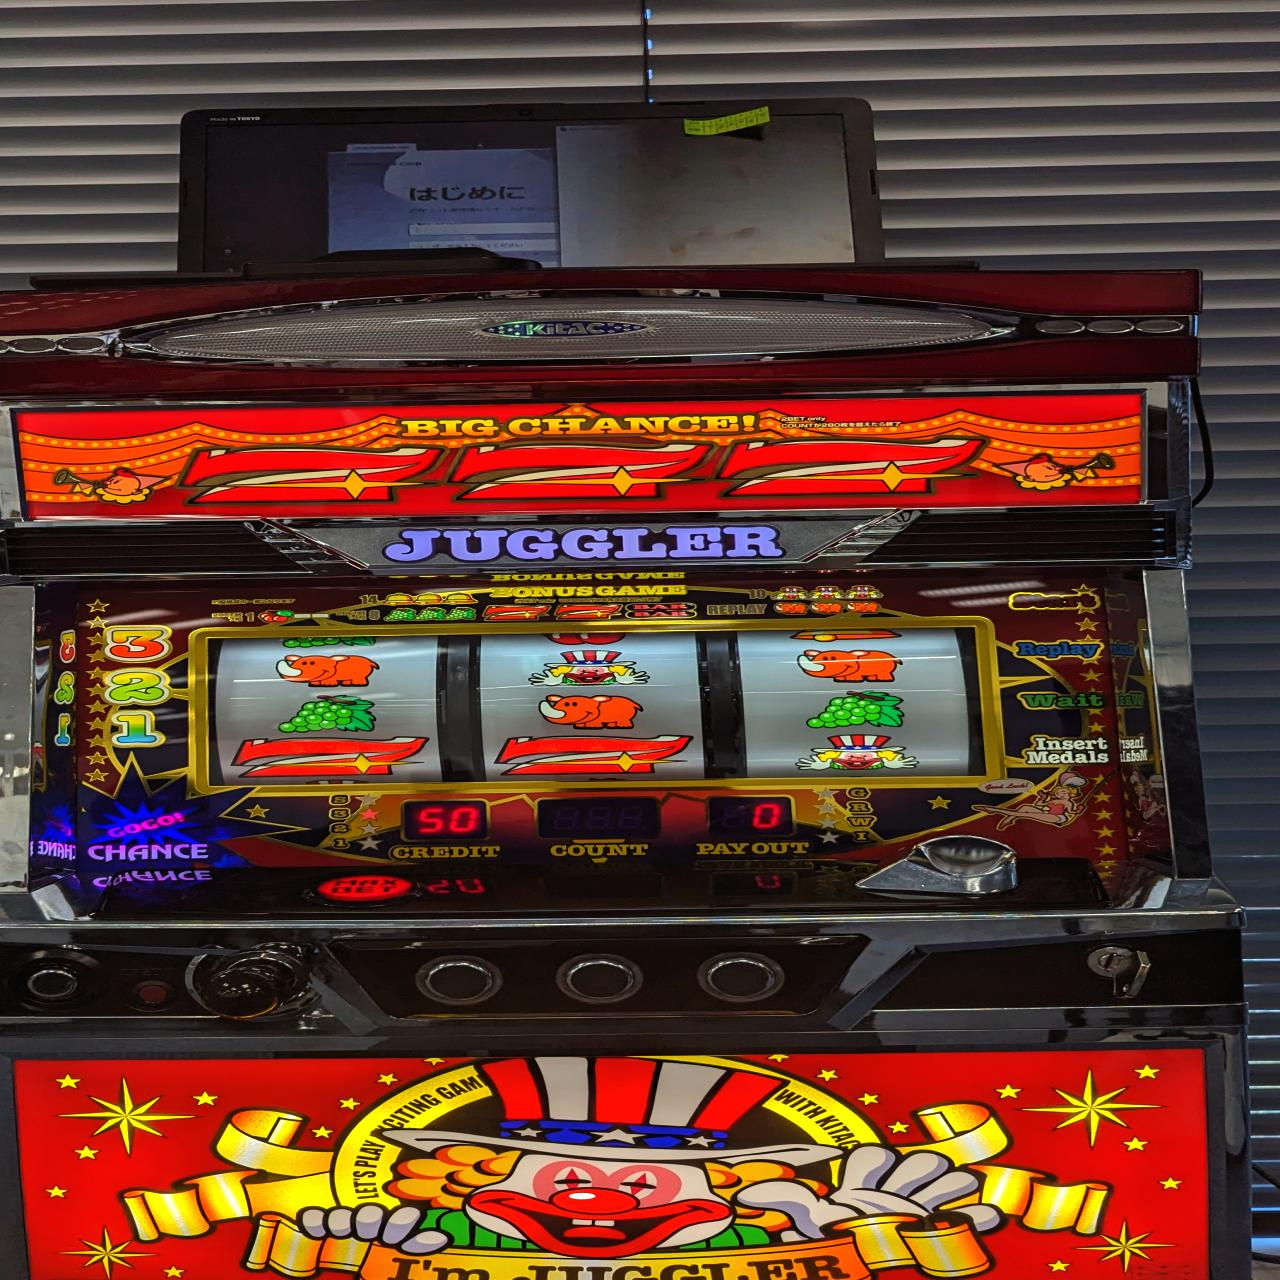7: (493, 735, 697, 776), (226, 738, 423, 776)
8: (536, 692, 647, 731), (795, 648, 904, 686), (274, 654, 381, 689)
Display: (196, 632, 995, 782)
clown: (795, 734, 922, 774), (527, 651, 651, 686)
grape: (277, 694, 380, 735), (804, 690, 905, 730)
